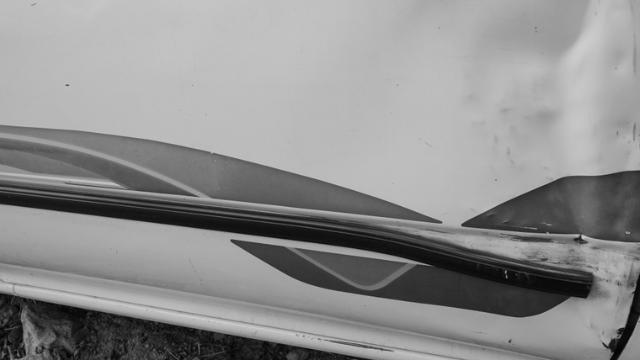Door: (427, 97, 640, 360)
